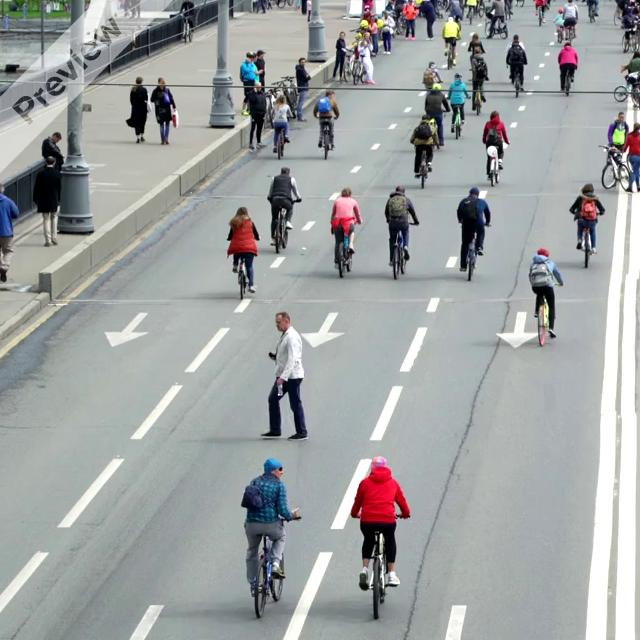bicycle: (249, 508, 301, 618), (357, 513, 410, 619), (533, 282, 562, 346), (573, 211, 603, 268), (388, 222, 418, 279), (270, 198, 301, 253), (598, 143, 632, 191), (462, 223, 490, 281), (332, 221, 357, 278), (230, 253, 255, 300), (412, 140, 436, 187), (315, 115, 337, 159), (468, 68, 486, 115), (485, 142, 504, 186), (485, 11, 508, 39), (271, 122, 288, 159), (449, 102, 465, 139), (508, 65, 524, 97), (351, 53, 367, 84), (262, 89, 274, 129), (339, 48, 353, 82), (179, 12, 194, 43), (444, 38, 458, 69), (560, 66, 574, 96)
